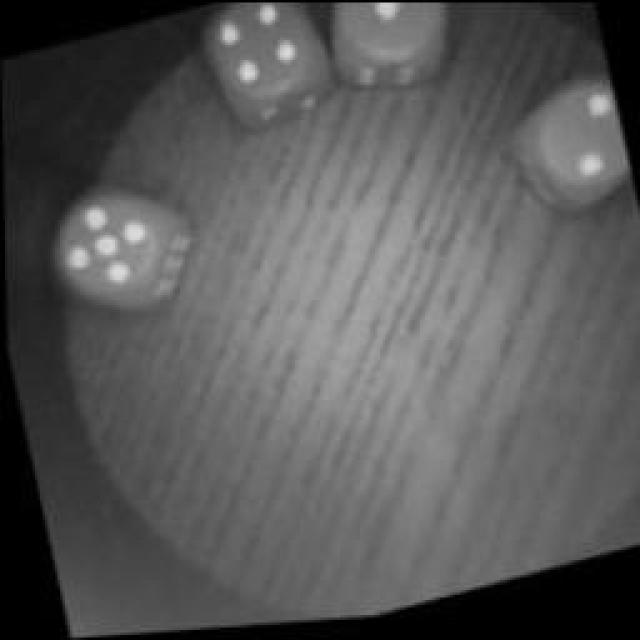dice_1: (308, 0, 462, 100)
dice_2: (500, 68, 635, 228)
dice_4: (181, 0, 336, 142)
dice_5: (26, 166, 186, 329)
